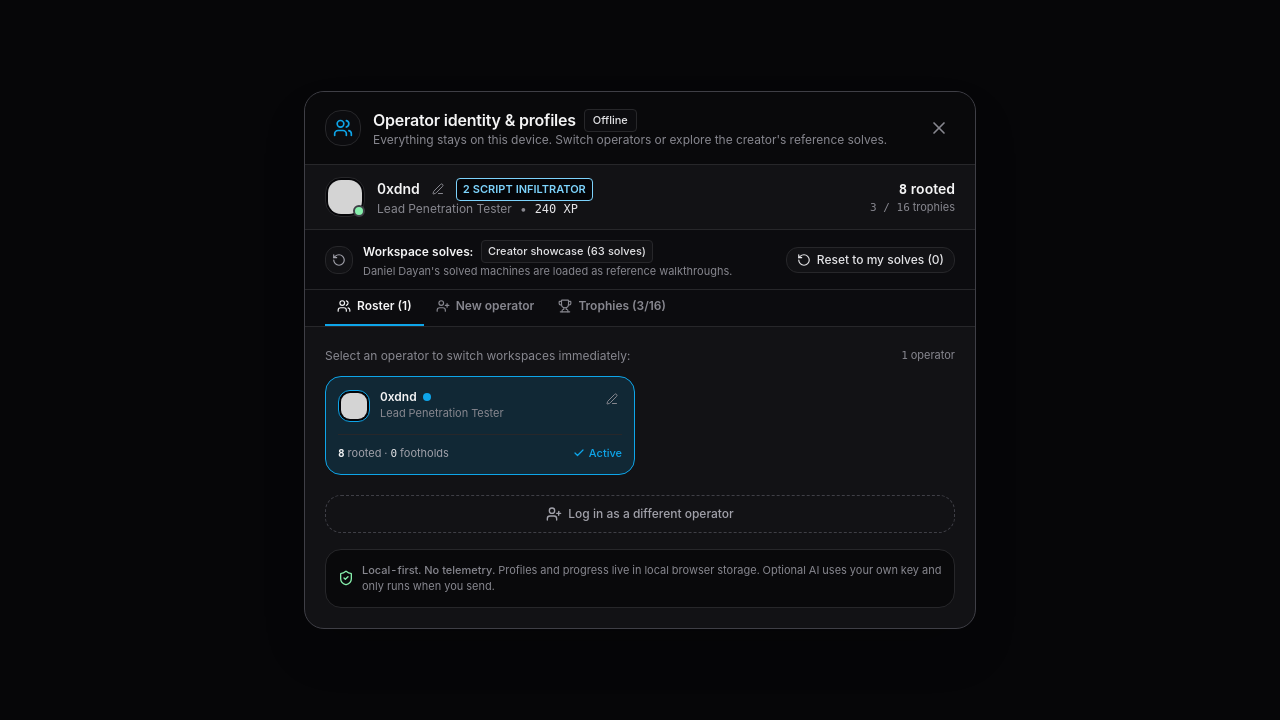
Scenario: OperatorProfileModal Hook Order & Lifecycle Fortification › allows quick-editing active callsign directly from hero banner and saves cleanly
Step 1. Click the button titled "Quick-Edit Active Callsign" → (438, 189), box x1=428 y1=179 x2=448 y2=199
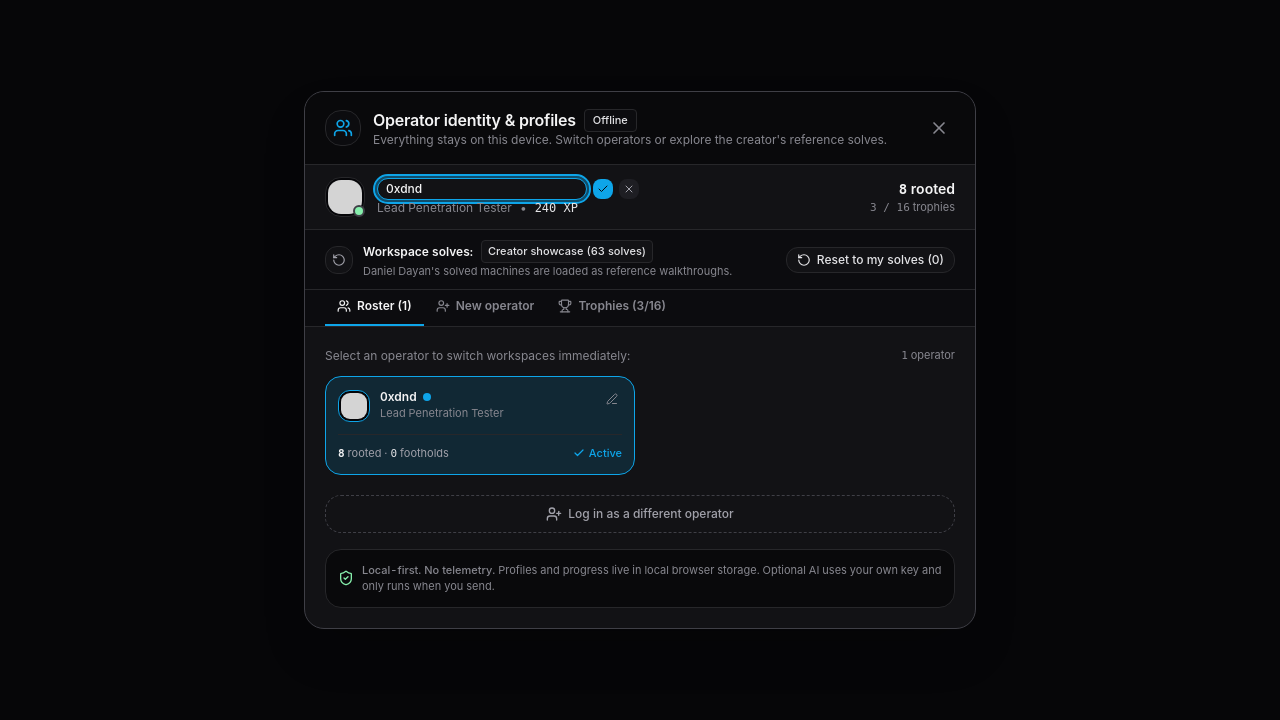
Now the field with placeholder "New Callsign" is shown
Step 2. Replace the text in the field with placeholder "New Callsign" with "SpecterGhost" → (482, 189), box x1=377 y1=178 x2=587 y2=200
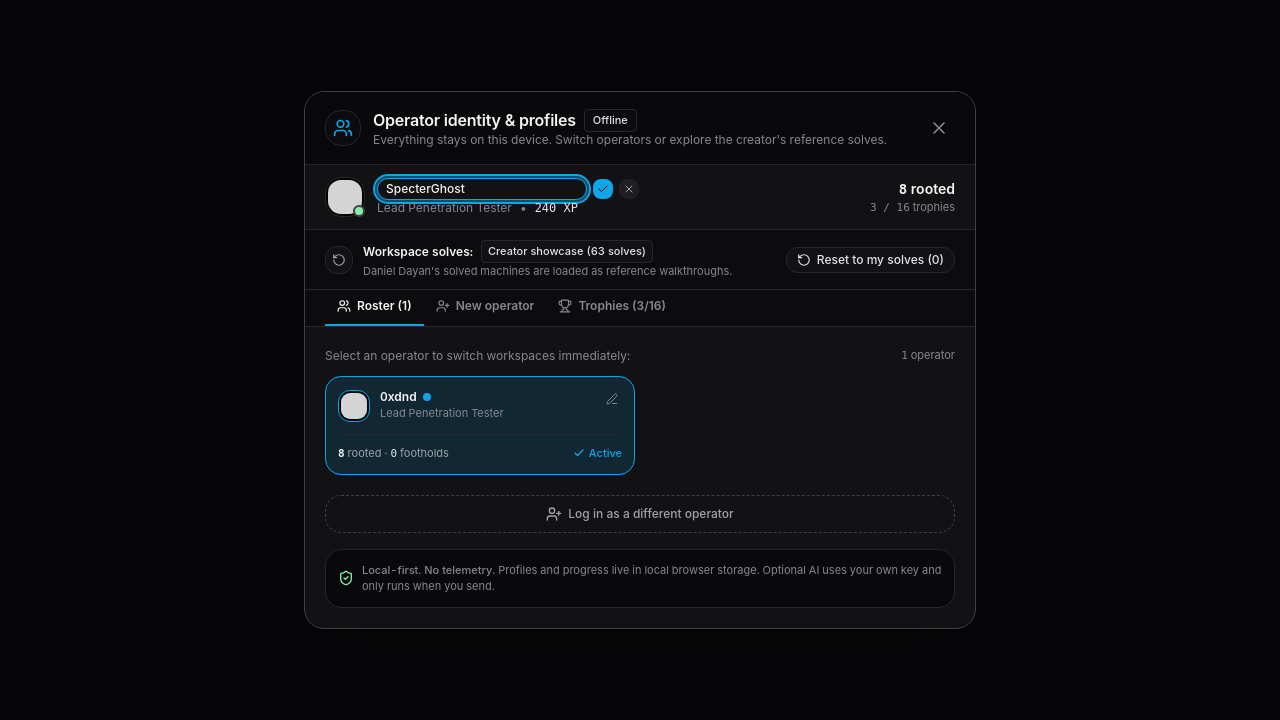
// Click save checkmark button
Step 3. Click the button titled "Save Callsign" → (603, 189), box x1=593 y1=179 x2=613 y2=199
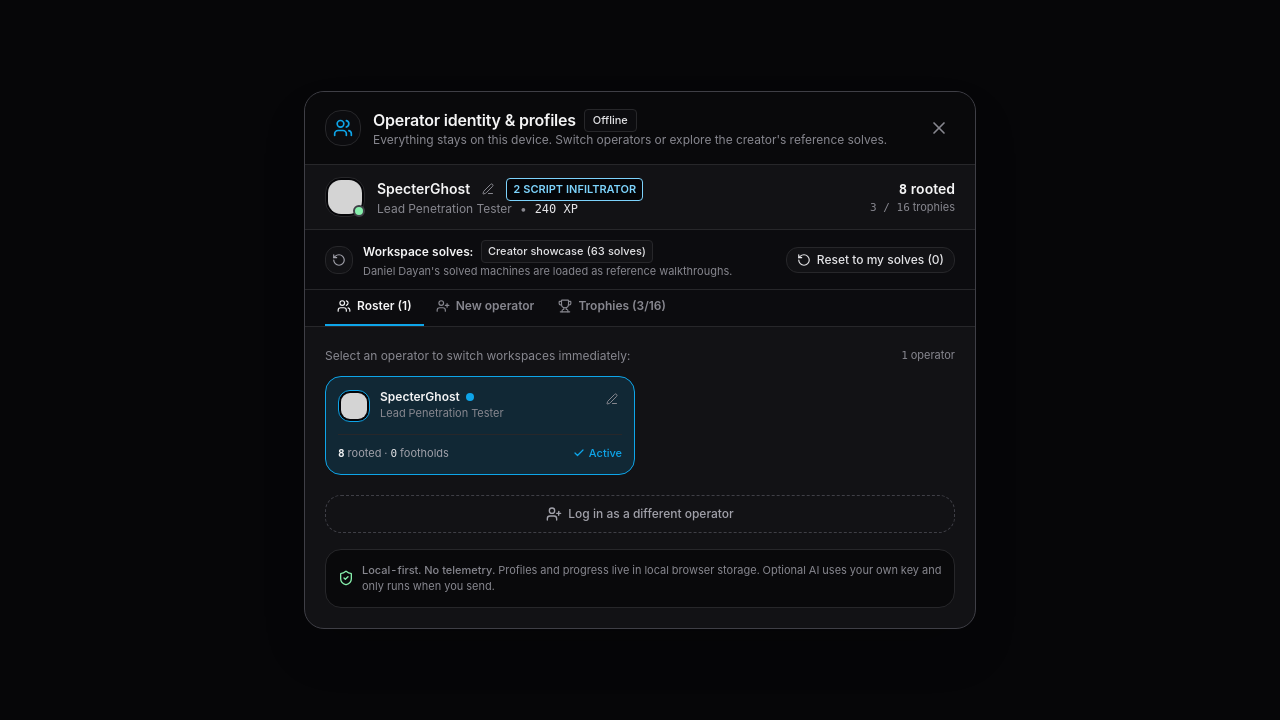
Now the text "SpecterGhost" in the row of "SCRIPT INFILTRATOR" is shown, box x1=377 y1=180 x2=470 y2=197
